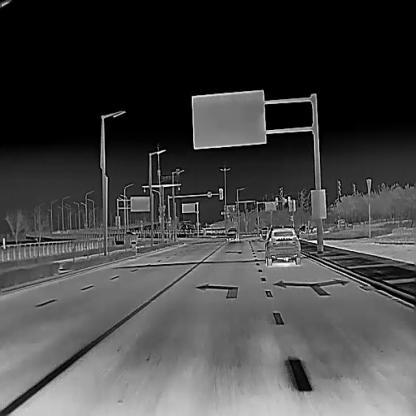car: (263, 226, 301, 266), (225, 227, 238, 241), (336, 217, 353, 227), (260, 226, 273, 238)
